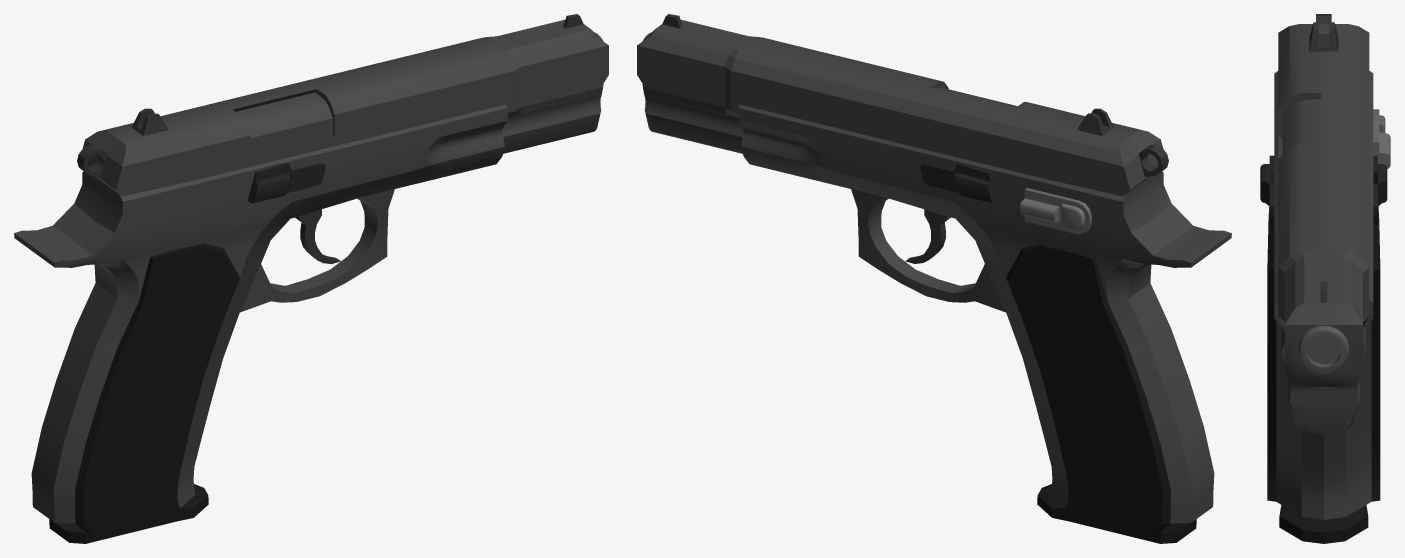
The picture shows the model from 3 angles, left to right: view 1: azimuth 30°, elevation 25°; view 2: azimuth 150°, elevation 25°; view 3: azimuth 270°, elevation 25°; orthographic projection. The views are drawn at different scales.
Parts seen in each view (by area): view 1: CZ_75; view 2: CZ_75; view 3: CZ_75.
Boxes of the visible parts, box(x1,y1,x2,y2) form: CZ_75: box(14, 14, 608, 543); CZ_75: box(637, 14, 1231, 543); CZ_75: box(1260, 14, 1390, 543).
Bounding box in the file's own units: 0.3268 × 0.2225 × 0.0534.
